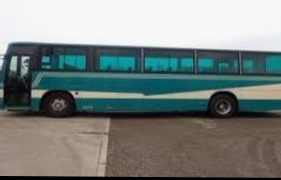bus: (5, 39, 281, 119)
